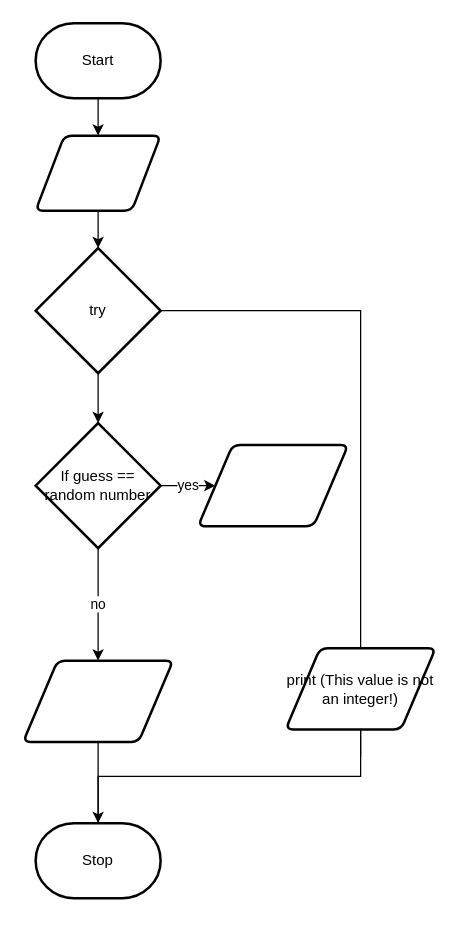
Some shapes in this 458 by 930 pixel diagram are drawn without their labels. Here are the shapes that lost their labels. From the top down, the centre of each, then its label:
the point at 97,172: User enters guess
the point at 272,485: print (correct!)
the point at 97,700: print (Incorrect. The number was __)
